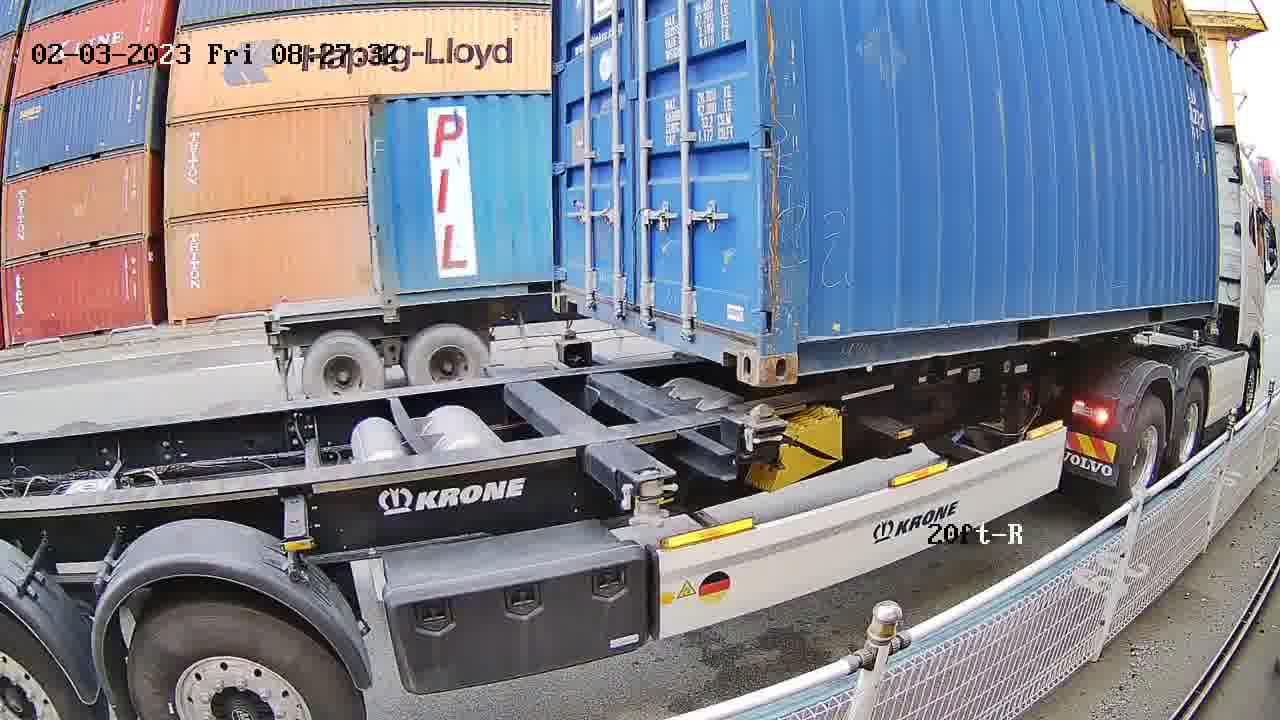Chassis: (553, 338, 783, 446)
Cone: (744, 403, 781, 462), (557, 327, 579, 344)
Hole_L: (757, 308, 837, 387), (552, 269, 587, 317)
Hole_R: (712, 307, 758, 387)
Tire: (1118, 397, 1166, 516), (1169, 383, 1205, 487)
